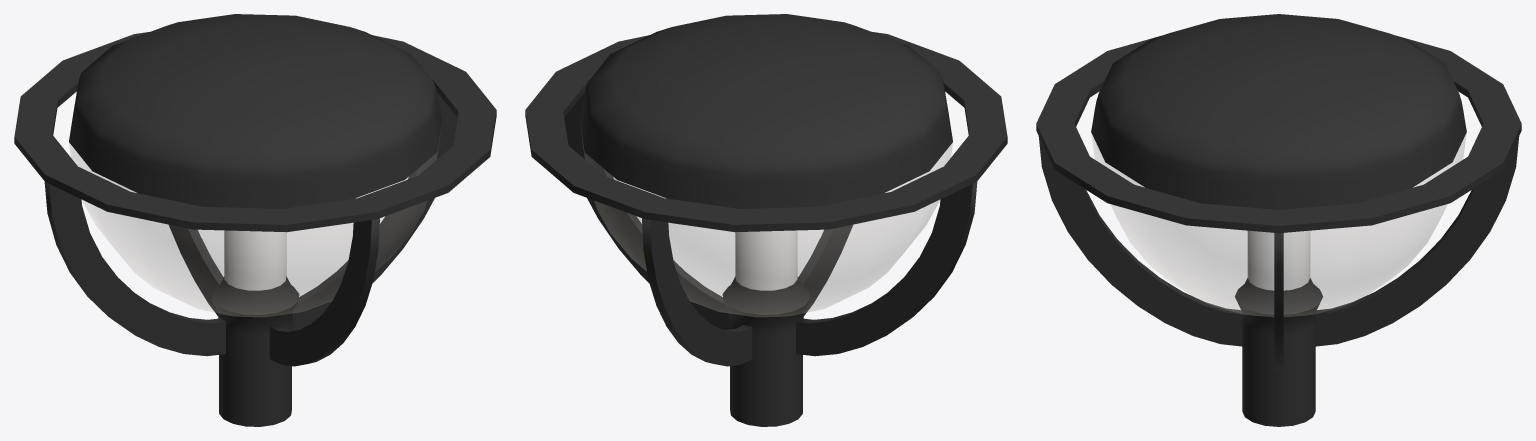
The model's file is Basket.glb.
3 views of the same model, side by side, from view 1: azimuth 30°, elevation 25°; view 2: azimuth 150°, elevation 25°; view 3: azimuth 270°, elevation 25° (orthographic).
Parts seen in each view (by area): view 1: Urbi 3 Basket, Urbi 3 Basket Streben, Urbi 3 Basket Glas; view 2: Urbi 3 Basket, Urbi 3 Basket Streben, Urbi 3 Basket Glas; view 3: Urbi 3 Basket, Urbi 3 Basket Glas, Urbi 3 Basket Streben.
Boxes of the visible parts, bbox=[...] form: Urbi 3 Basket: bbox=[14, 14, 496, 426]; Urbi 3 Basket Streben: bbox=[44, 93, 457, 366]; Urbi 3 Basket Glas: bbox=[69, 140, 439, 316]; Urbi 3 Basket: bbox=[525, 14, 1007, 426]; Urbi 3 Basket Streben: bbox=[564, 93, 977, 366]; Urbi 3 Basket Glas: bbox=[582, 140, 952, 316]; Urbi 3 Basket: bbox=[1036, 14, 1521, 426]; Urbi 3 Basket Glas: bbox=[1091, 134, 1466, 316]; Urbi 3 Basket Streben: bbox=[1038, 136, 1519, 370].
Bounding box in the file's own units: 0.66 × 0.5275 × 0.66.
5 materials, 4 textured.
